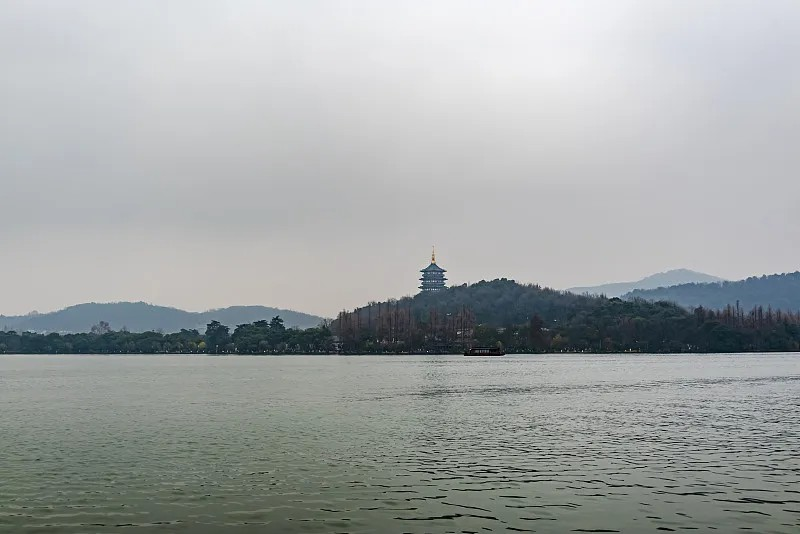Leifeng: (418, 245, 447, 296)
